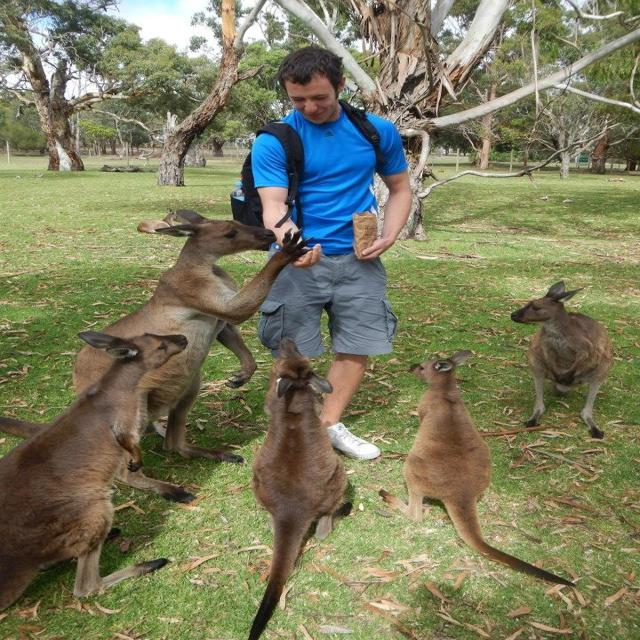kangaroo: (1, 326, 194, 594), (121, 209, 277, 332), (390, 355, 497, 526), (264, 338, 349, 545), (505, 283, 615, 437)
